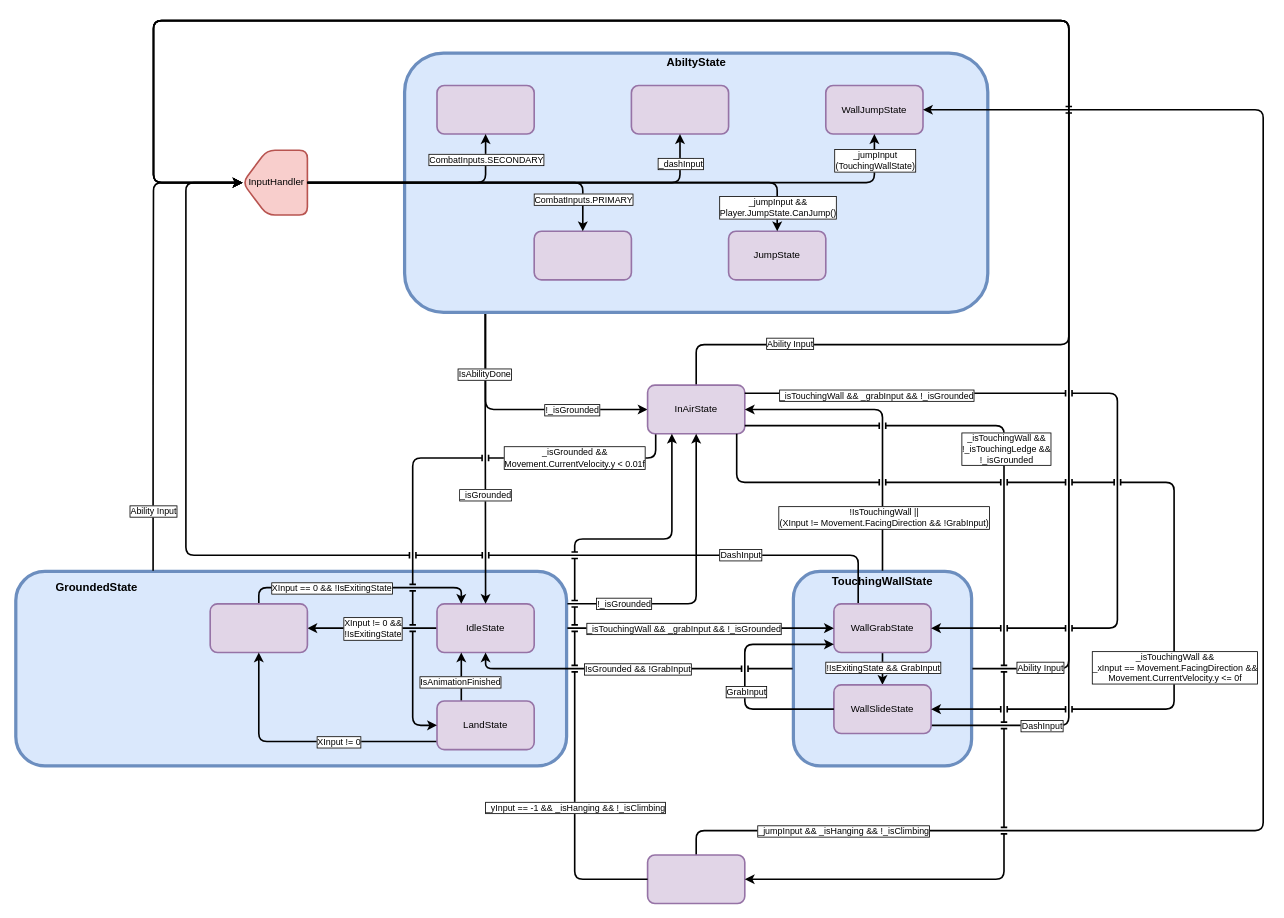
Image size: 1284x918. Some labels were removed from this diagram. Here are the shapes that lost their labels. From the top down, the centre of each, then its label:
At pixel 485 109: "SecondaryAttackState".
At pixel 679 109: "DashState".
At pixel 582 255: "PrimaryAttackState".
At pixel 258 628: "MoveState".
At pixel 695 879: "LedgeClimbState".
